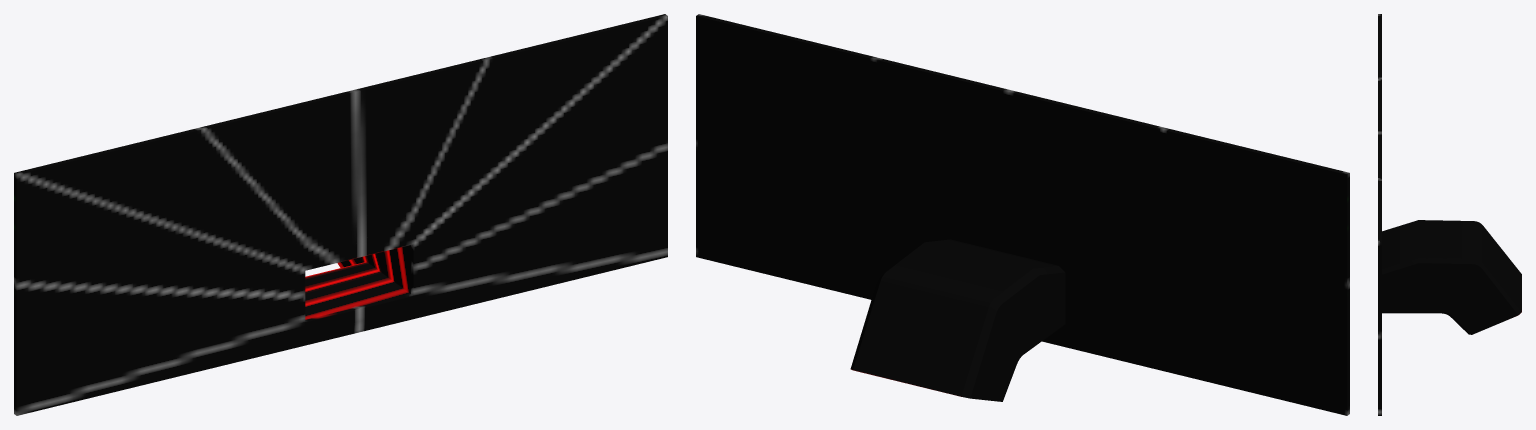
File: Mainwallpart.fbx
The picture shows the model from 3 angles, left to right: view 1: azimuth 30°, elevation 25°; view 2: azimuth 150°, elevation 25°; view 3: azimuth 270°, elevation 25°; orthographic projection. The views are drawn at different scales.
Visible parts, largest first — view 1: polySurface73, polySurface72; view 2: polySurface72, polySurface73; view 3: polySurface72, polySurface73.
Part boxes in pixels (left/top/right/bottom): polySurface73: left=14, top=14, right=667, bottom=415; polySurface72: left=267, top=189, right=450, bottom=354; polySurface72: left=696, top=16, right=1347, bottom=415; polySurface73: left=696, top=14, right=1349, bottom=415; polySurface72: left=1382, top=220, right=1521, bottom=334; polySurface73: left=1378, top=14, right=1381, bottom=415.
Size of the model in its own units: 1652 by 611 by 440.
